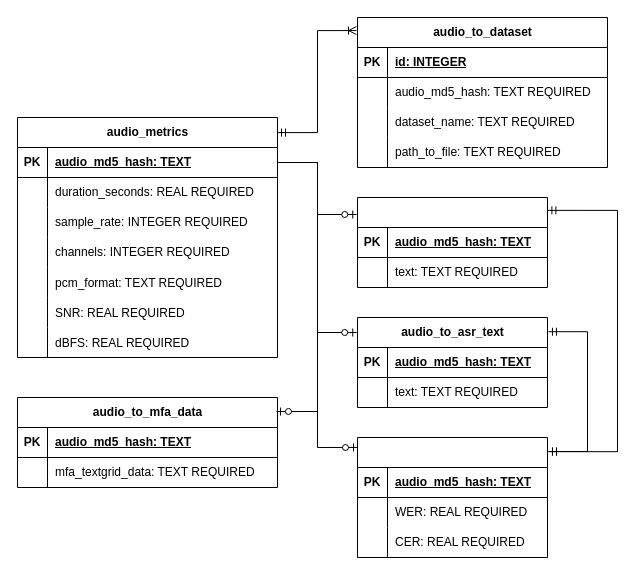
The diagram is 644 pixels wide and 575 high, and some of its shapes have lost their labels. Each missing label, with the box of its shape:
audio_to_original_text: (356, 196, 548, 288)
text_comparation_metrics: (356, 436, 548, 558)
